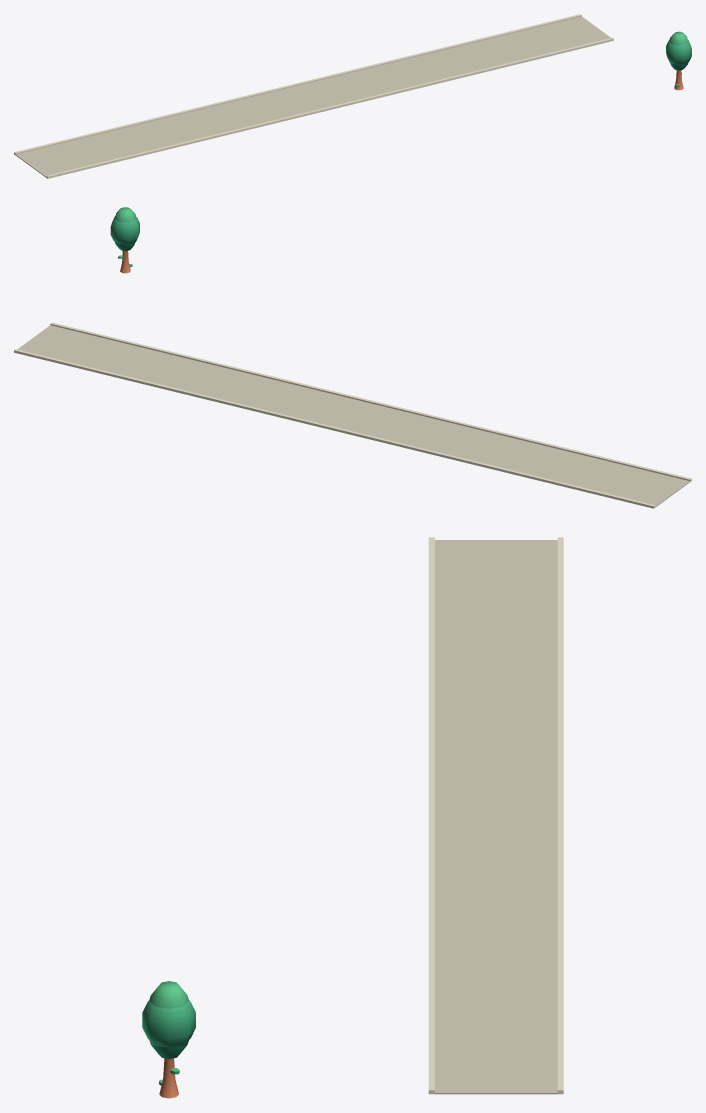
File: gardens-3-6.glb
3 renders of one model, top to bottom at view 1: azimuth 30°, elevation 25°; view 2: azimuth 150°, elevation 25°; view 3: azimuth 270°, elevation 25°, orthographic. The views are drawn at different scales.
Visible parts, largest first — view 1: gardens-3-6; view 2: gardens-3-6; view 3: gardens-3-6.
Part boxes in pixels (box(x1,y1,x2,y2)): gardens-3-6: box(14, 14, 691, 178); gardens-3-6: box(14, 207, 691, 508); gardens-3-6: box(142, 537, 563, 1098).
Bounding box in the file's own units: 131 × 11.76 × 41.23.
3 materials, 1 textured.
